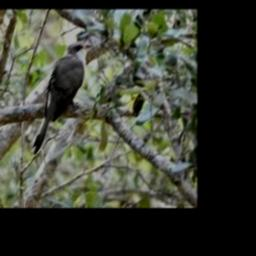Cuckoo: (33, 43, 91, 154)
